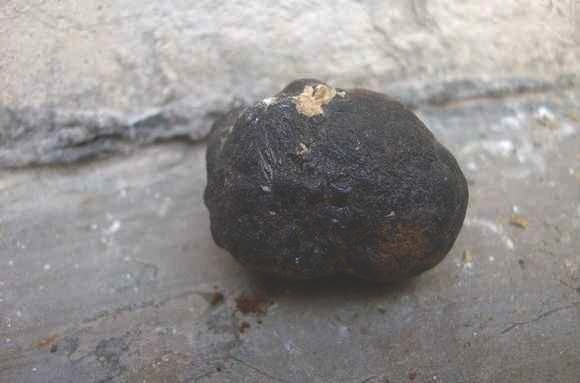halobolite: (203, 74, 476, 294)
